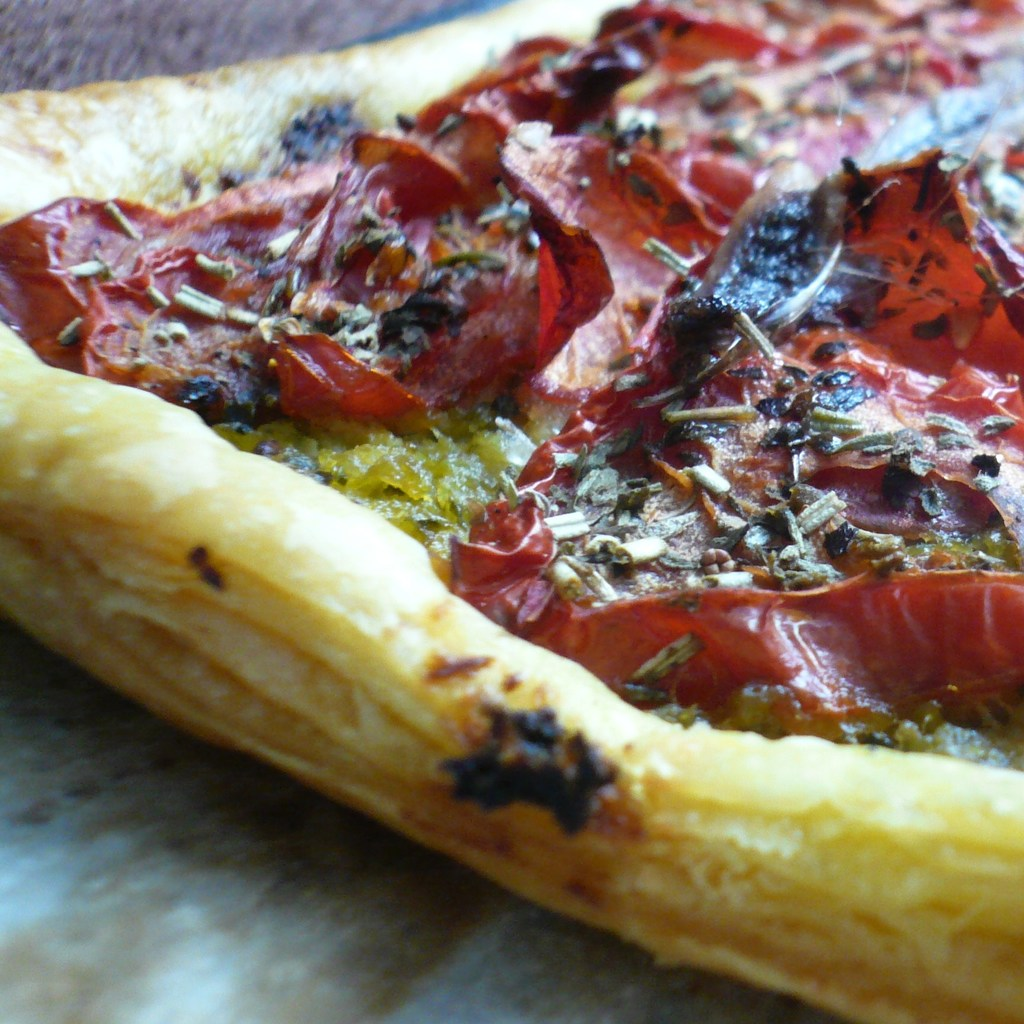Pizza: (0, 0, 1023, 1017)
